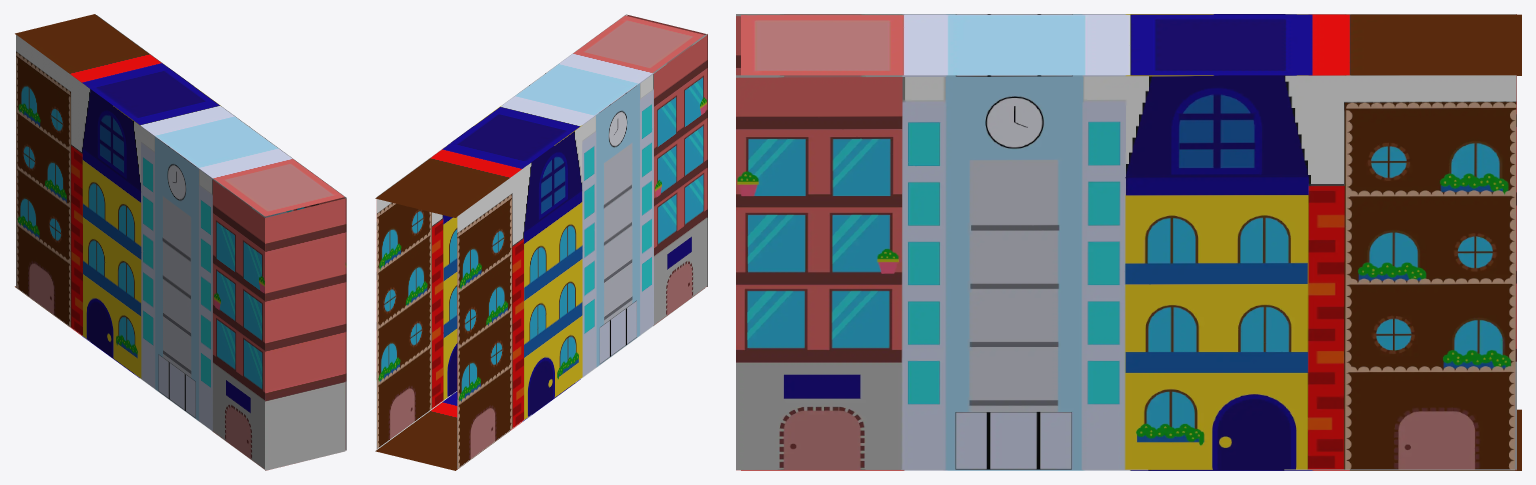
File: daypho.glb
3 renders of one model, left to right at view 1: azimuth 30°, elevation 25°; view 2: azimuth 150°, elevation 25°; view 3: azimuth 270°, elevation 25°, orthographic. The views are drawn at different scales.
Parts seen in each view (by area): view 1: Plane.005; view 2: Plane.005; view 3: Plane.005.
Part boxes in pixels (x1,y1,x2,y2): Plane.005: (15,14,346,470); Plane.005: (375,14,707,470); Plane.005: (736,14,1521,470).
Bounding box in the file's own units: 5.05 × 15.02 × 27.05.
5 materials, 5 textured.
